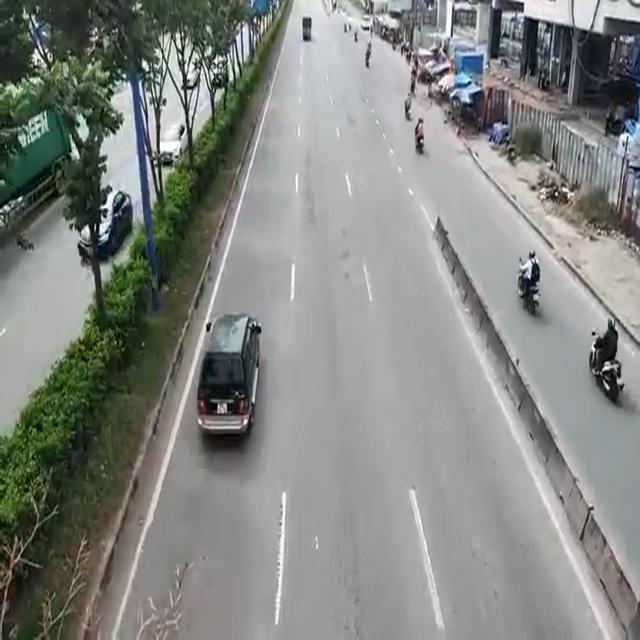car: (197, 311, 263, 447)
motor: (592, 334, 622, 400), (516, 261, 542, 315)
